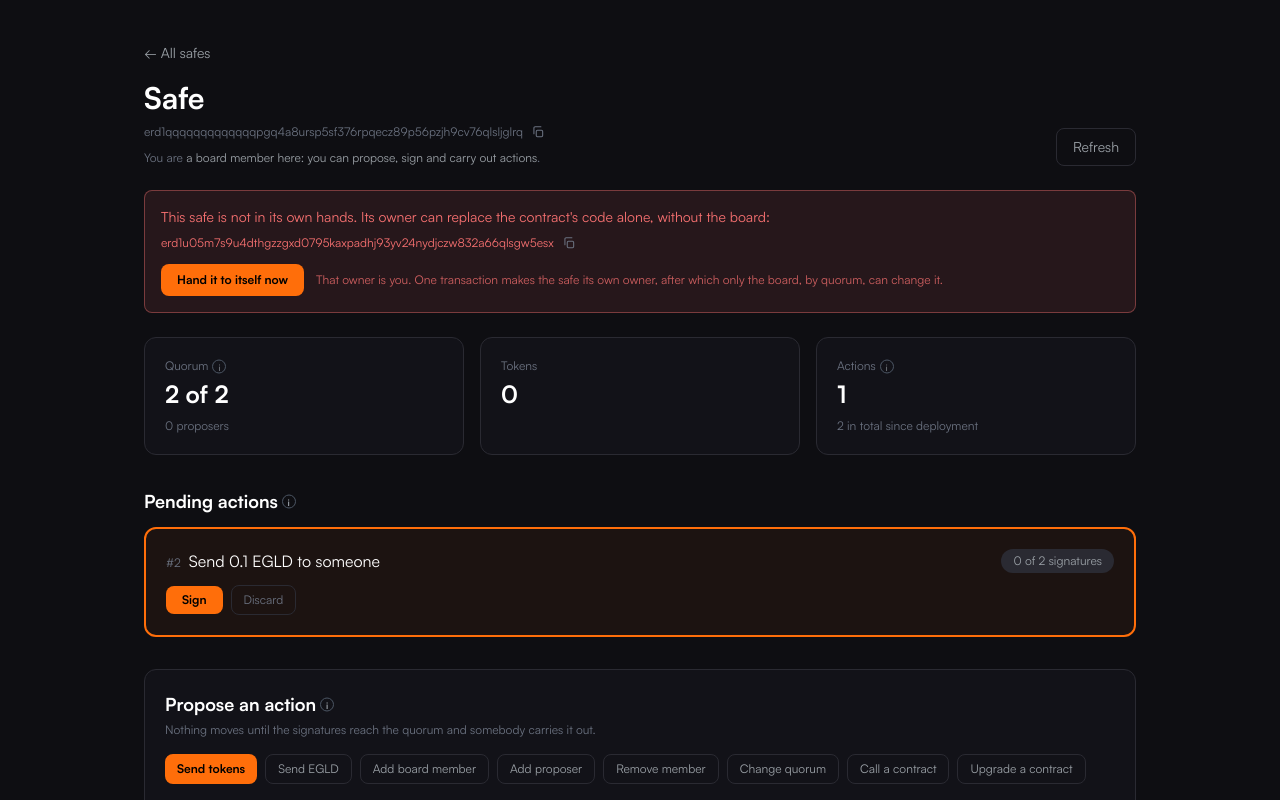
Scenario: control: a Sign whose wallet never answers offers "start over" after 25 s (WEB-08)
Expected: the text "Send 0.1 EGLD to someone" is shown, [189,551,380,571]
Click the button "Sign": (194, 600) [166,586,222,614]
Wait 25000 ms
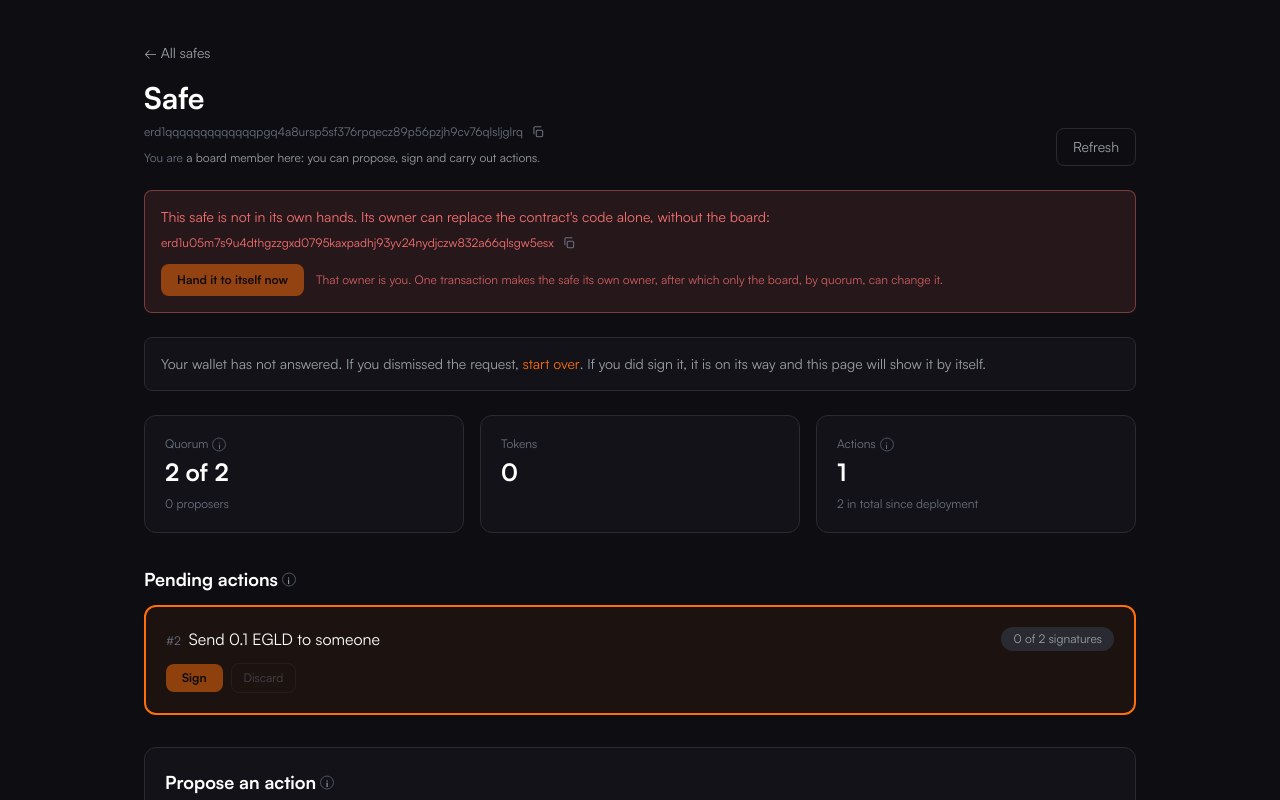
Result: the button "start over" is shown at [523,354,580,374]
